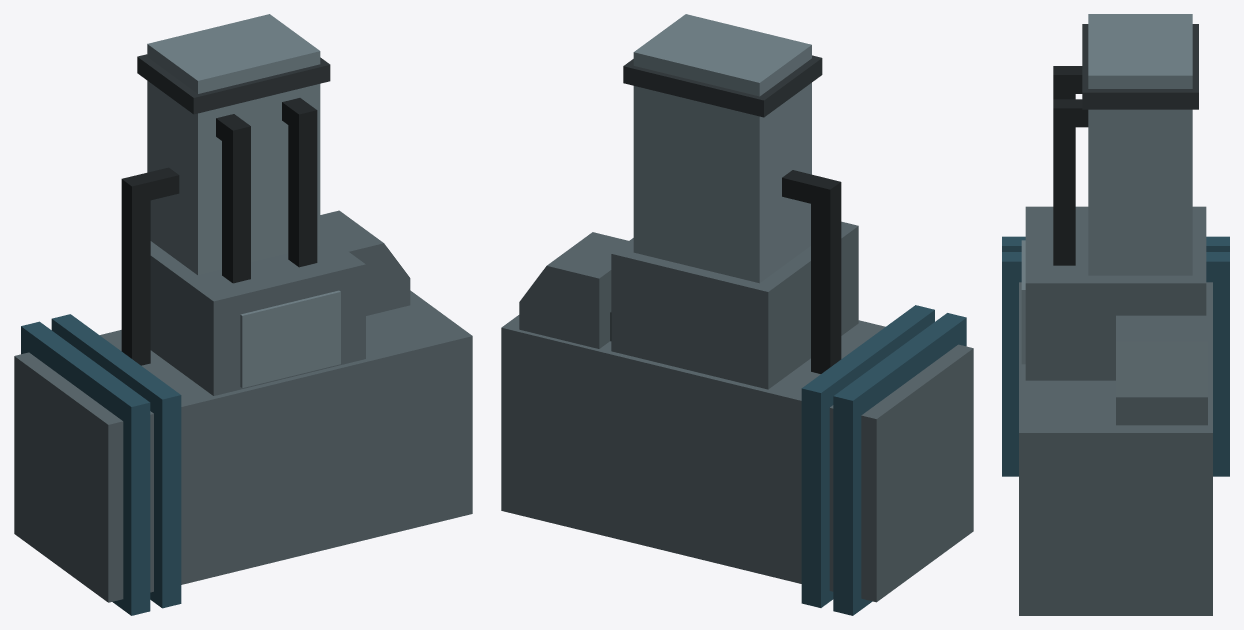
File: Border 03.FBX
The picture shows the model from 3 angles, left to right: view 1: azimuth 30°, elevation 25°; view 2: azimuth 150°, elevation 25°; view 3: azimuth 270°, elevation 25°; orthographic projection. The views are drawn at different scales.
Visible parts, largest first — view 1: Border 03; view 2: Border 03; view 3: Border 03.
Part boxes in pixels (x1=…): Border 03: x1=14, y1=14, x2=472, y2=615; Border 03: x1=501, y1=14, x2=973, y2=615; Border 03: x1=1002, y1=14, x2=1229, y2=615.
Size of the model in its own units: 553 by 693 by 291.
